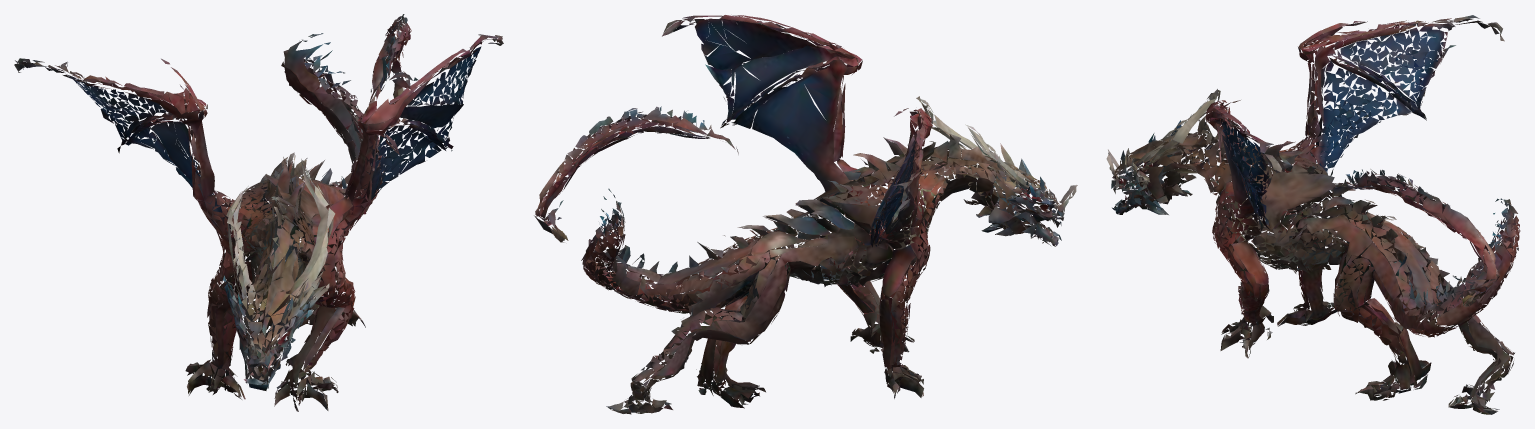
Rendered from dragon.glb.
3 renders of one model, left to right at view 1: azimuth 30°, elevation 25°; view 2: azimuth 150°, elevation 25°; view 3: azimuth 270°, elevation 25°, orthographic. The views are drawn at different scales.
Parts seen in each view (by area): view 1: reference; view 2: reference; view 3: reference.
Boxes of the visible parts, x1,y1,x2,y2 form: reference: [14, 14, 503, 411]; reference: [534, 15, 1077, 414]; reference: [1106, 15, 1520, 414].
Size of the model in its own units: 8.78 by 6.99 by 8.88.
1 material, 1 textured.
